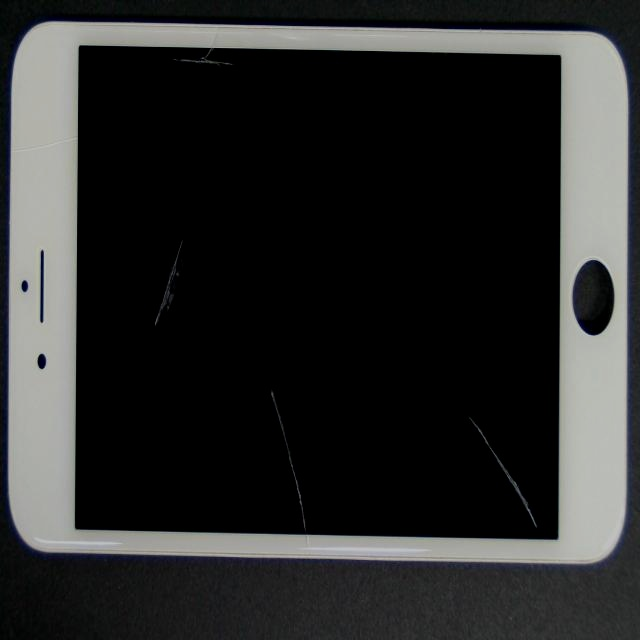scratch: (314, 323, 640, 640), (180, 321, 449, 640), (123, 45, 257, 373), (176, 40, 342, 75)
